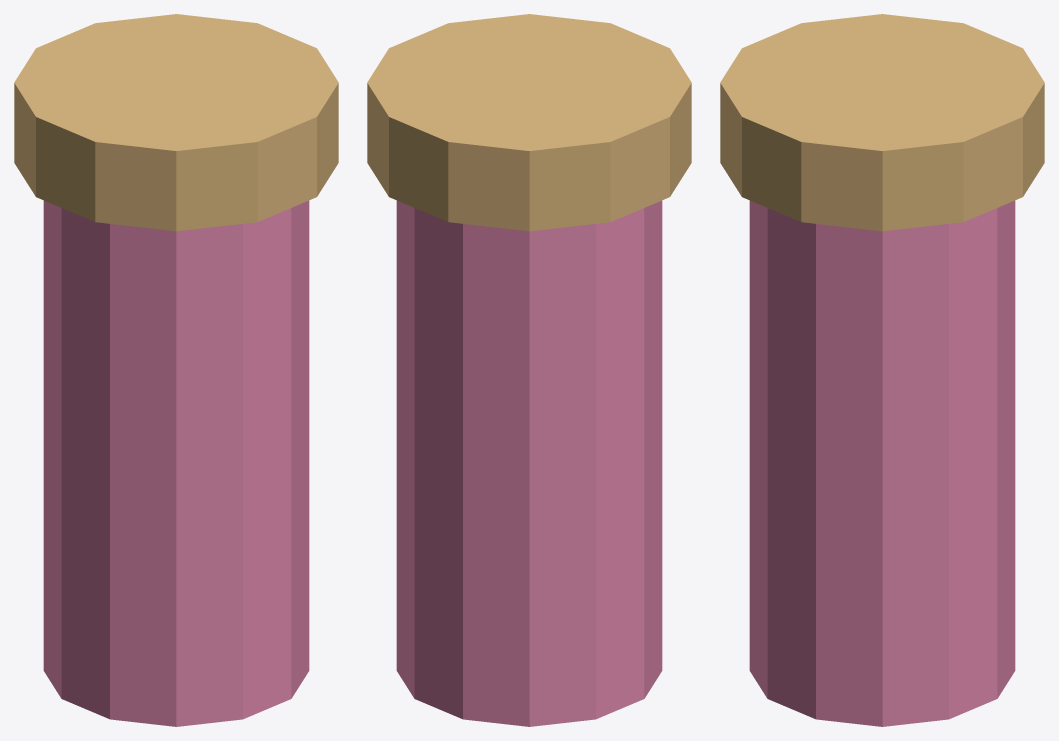
The model's file is LightGrip.obj.
3 renders of one model, left to right at view 1: azimuth 30°, elevation 25°; view 2: azimuth 150°, elevation 25°; view 3: azimuth 270°, elevation 25°, orthographic.
Visible parts, largest first — view 1: LightGrip_Body, LightGrip_Detail; view 2: LightGrip_Body, LightGrip_Detail; view 3: LightGrip_Body, LightGrip_Detail.
Boxes of the visible parts, box(x1,y1,x2,y2) form: LightGrip_Body: box(43, 200, 309, 726); LightGrip_Detail: box(14, 14, 338, 231); LightGrip_Body: box(396, 200, 662, 726); LightGrip_Detail: box(367, 14, 691, 231); LightGrip_Body: box(749, 200, 1015, 726); LightGrip_Detail: box(720, 14, 1044, 231).
Size of the model in its own units: 0.11 by 0.22 by 0.11.
